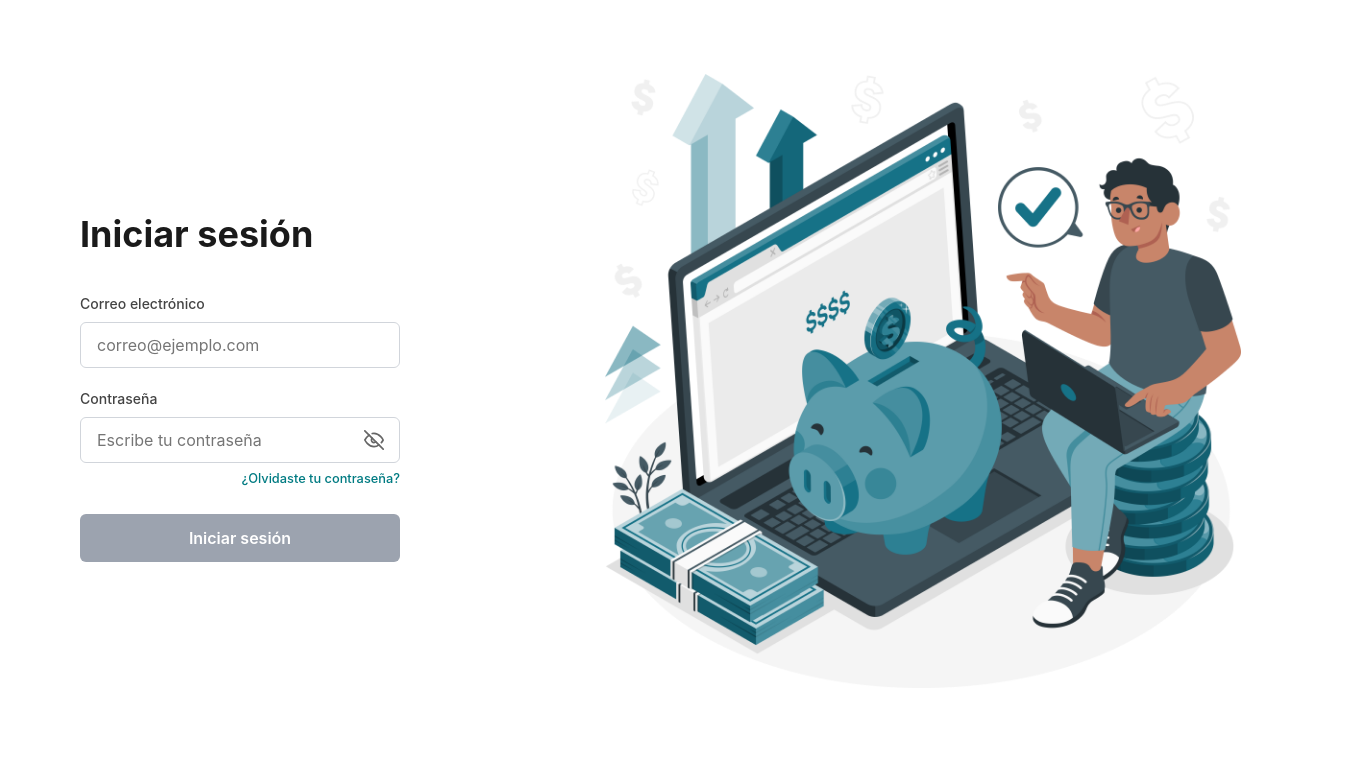
Test case: LoginPage › shows error message on invalid credentials
Type "wrong@email.com" into the field labelled "Correo electrónico". click: [240, 344]
box: [80,322,400,368]
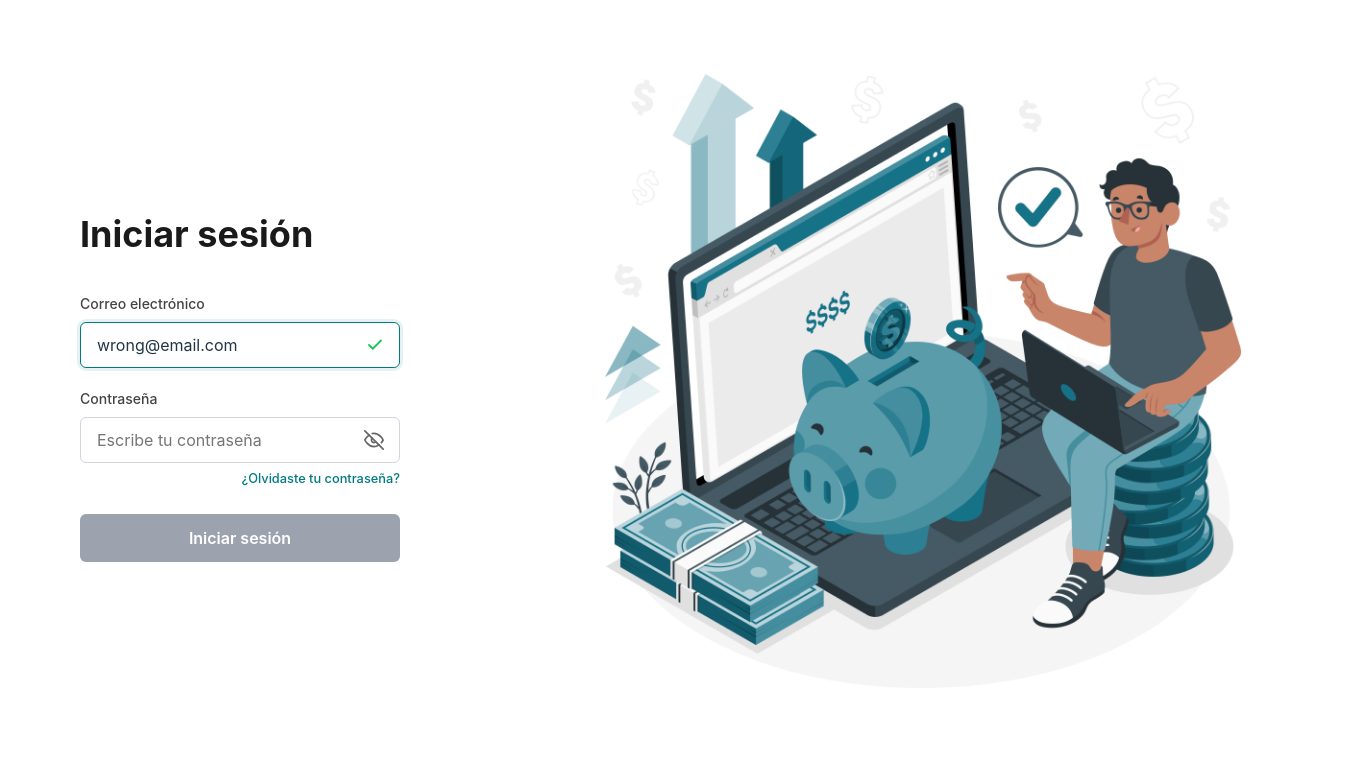
Type "wrongpassword" into the password field with placeholder "Escribe tu contraseña". click: [240, 440]
box: [80,416,400,462]
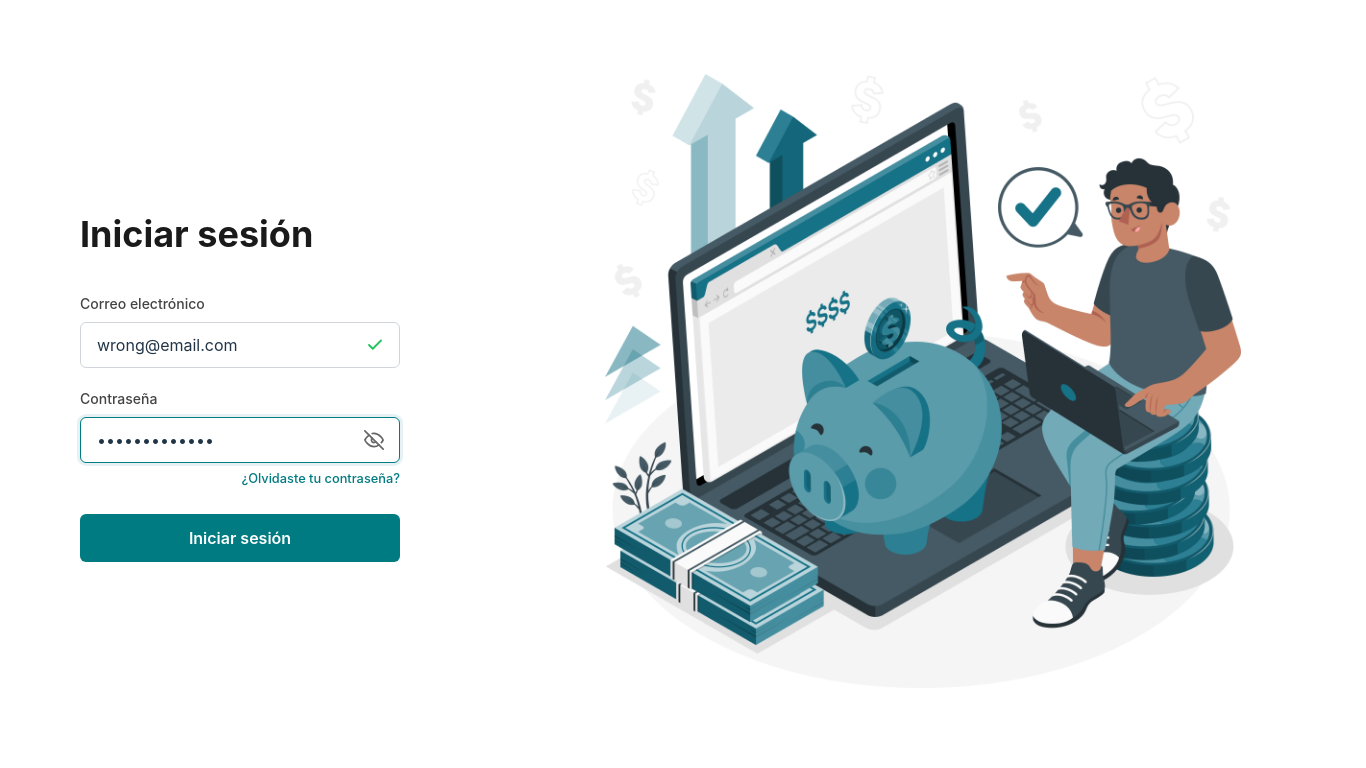
Click the button "Iniciar sesión". click: [240, 538]
box: [80,514,400,562]
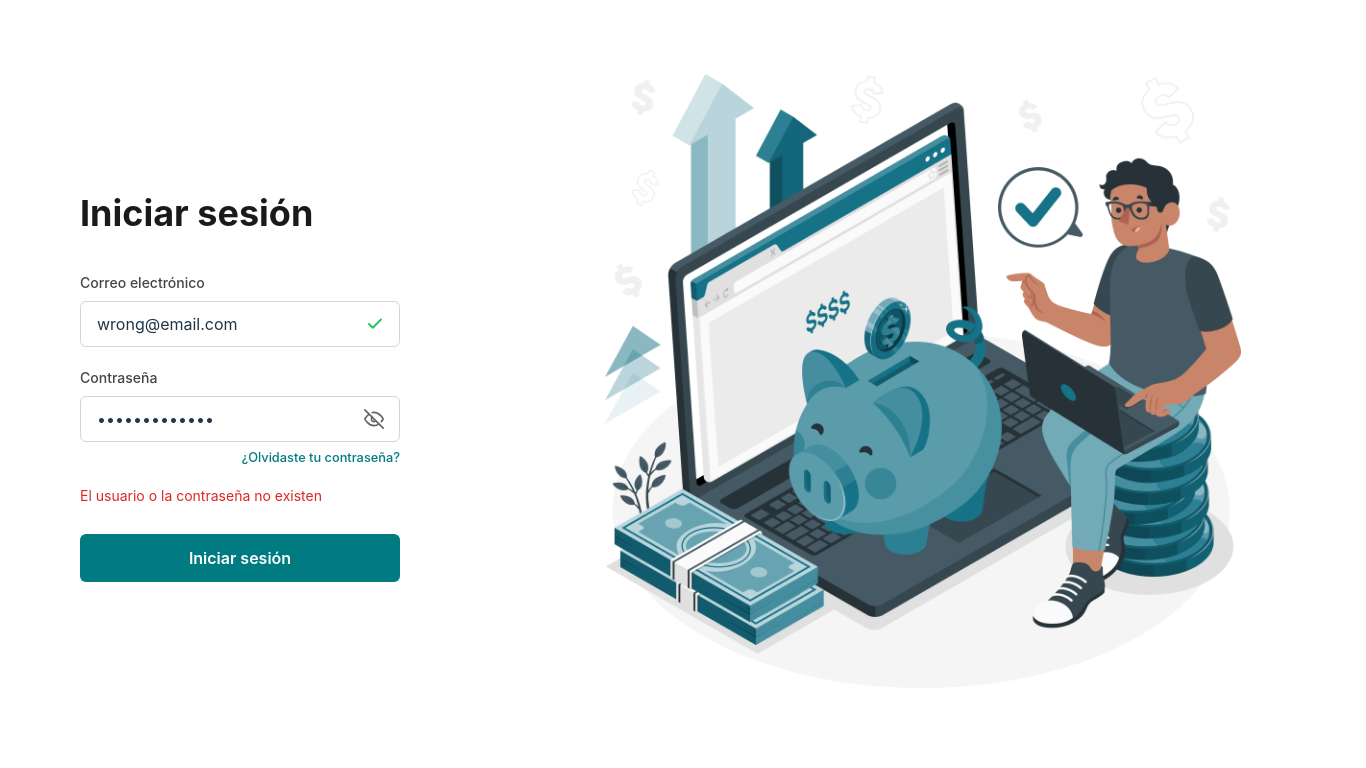
Result: the message "El usuario o la contraseña no existen" is shown at [80,487,322,504]
